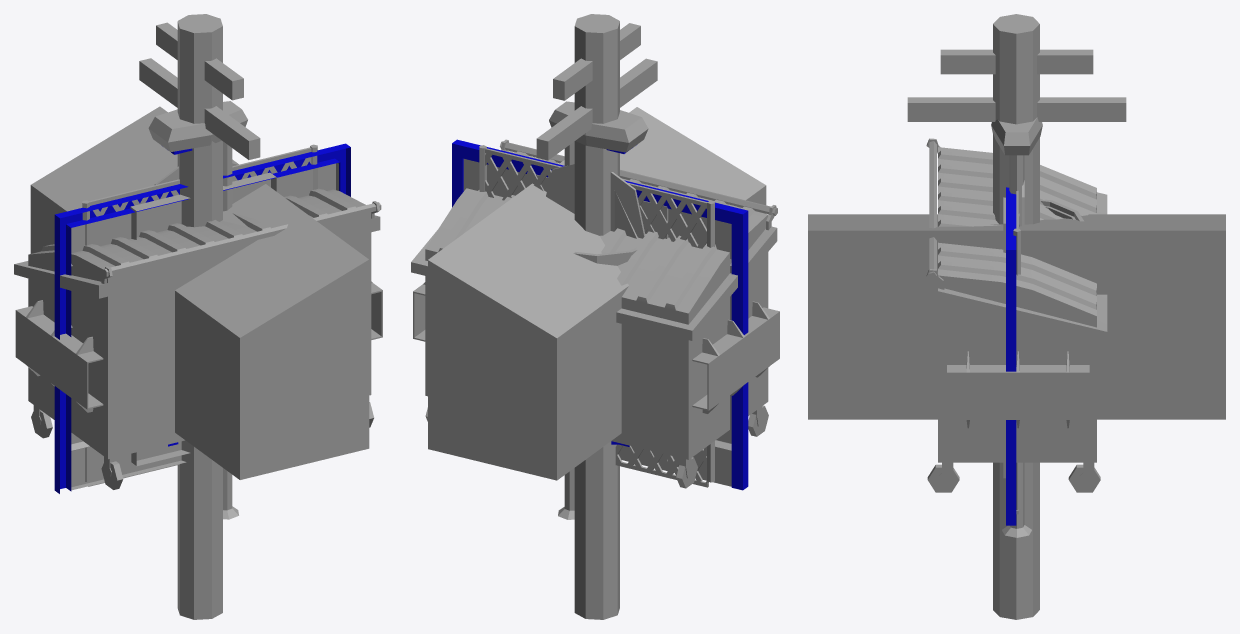
The model's file is Propsassets.fbx.
The picture shows the model from 3 angles, left to right: view 1: azimuth 30°, elevation 25°; view 2: azimuth 150°, elevation 25°; view 3: azimuth 270°, elevation 25°; orthographic projection.
Visible parts, largest first — view 1: big_box, trash_dumpster, pole, garage_door, light_poel, fence_1, emergency_door; view 2: big_box, trash_dumpster, pole, garage_door, fence_1, light_poel, stop_sign, door, cement_pipe, attention_s; view 3: big_box, trash_dumpster, pole, garage_door, light_poel.
Boxes of the visible parts, x1,y1,x2,y2 form: big_box: (30, 106, 369, 479); trash_dumpster: (14, 188, 382, 489); pole: (139, 14, 260, 619); garage_door: (54, 143, 350, 493); light_poel: (148, 101, 247, 519); fence_1: (82, 147, 311, 486); emergency_door: (131, 173, 276, 465); big_box: (428, 107, 766, 480); trash_dumpster: (411, 139, 779, 488); pole: (536, 14, 657, 619); garage_door: (452, 139, 748, 490); fence_1: (485, 148, 714, 487); light_poel: (549, 101, 648, 519); stop_sign: (546, 163, 645, 238); door: (527, 172, 668, 461); cement_pipe: (573, 248, 637, 265); attention_s: (614, 190, 637, 238); big_box: (808, 214, 1225, 419); trash_dumpster: (926, 138, 1107, 492); pole: (907, 14, 1126, 619); garage_door: (1006, 187, 1016, 525); light_poel: (991, 117, 1042, 537).
Size of the model in its own units: 2.29 by 4.34 by 2.8.
